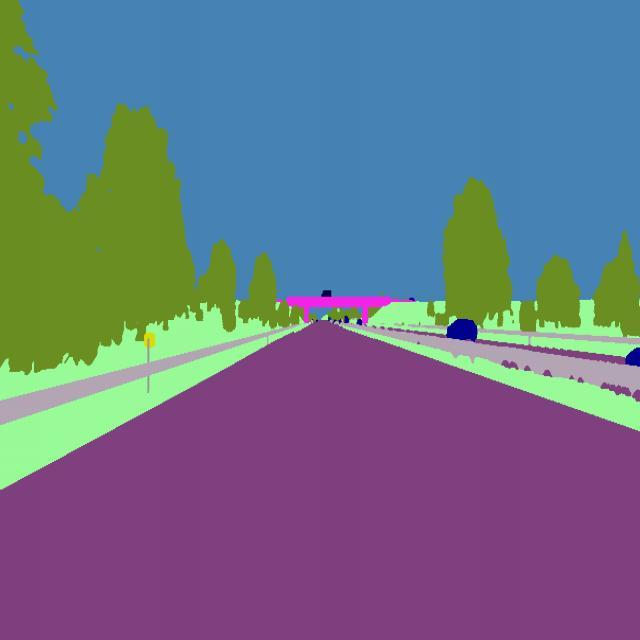safe: (444, 314, 480, 346)
